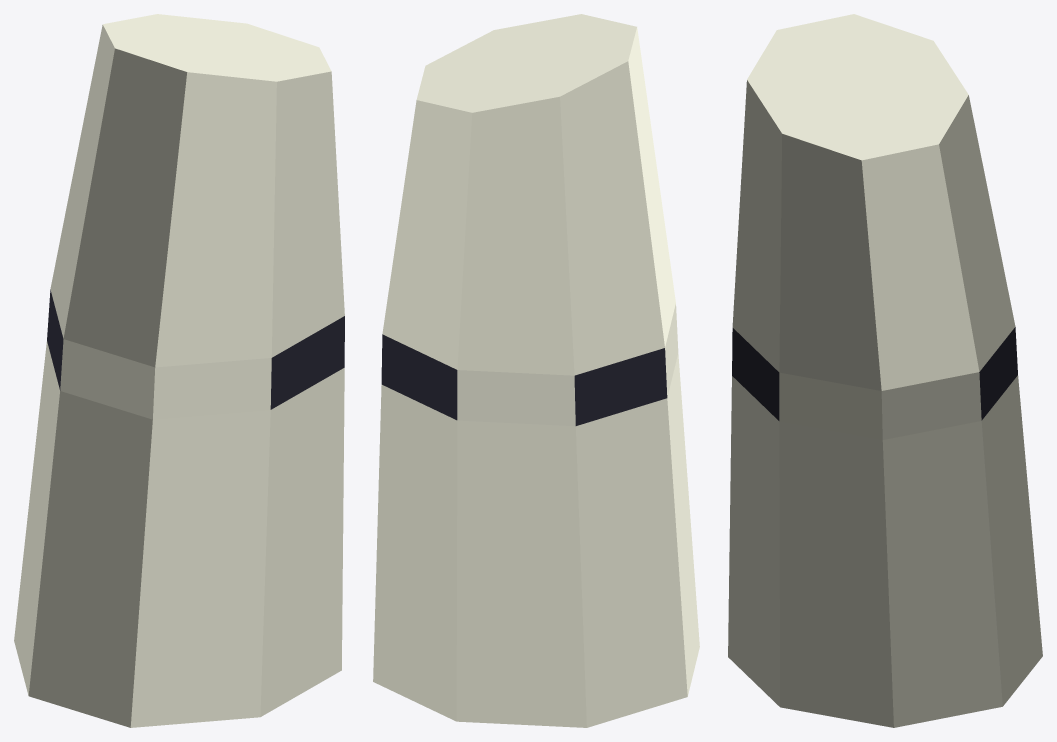
File: Stump2_winter.FBX
3 renders of one model, left to right at view 1: azimuth 30°, elevation 25°; view 2: azimuth 150°, elevation 25°; view 3: azimuth 270°, elevation 25°, orthographic. The views are drawn at different scales.
Parts seen in each view (by area): view 1: Berezka pen.006; view 2: Berezka pen.006; view 3: Berezka pen.006.
Part boxes in pixels (box(x1,y1,x2,y2)): Berezka pen.006: box(14, 14, 344, 727); Berezka pen.006: box(373, 14, 699, 727); Berezka pen.006: box(728, 14, 1042, 727).
Bounding box in the file's own units: 0.4715 × 0.9367 × 0.4409.
